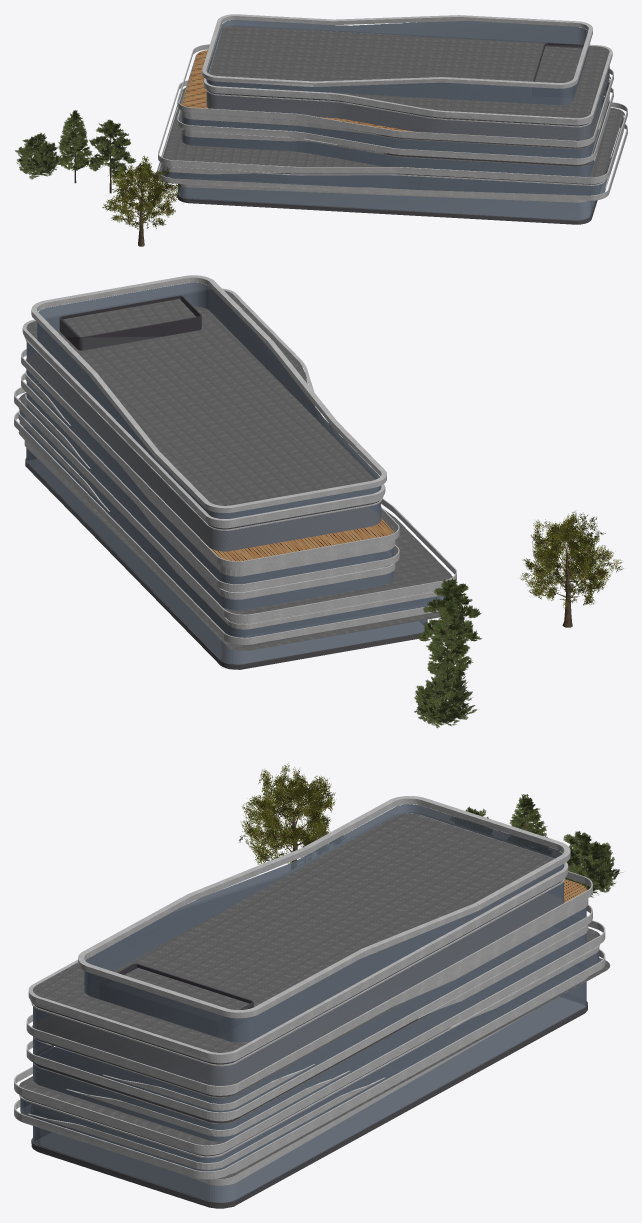
The model's file is target.glb.
3 views of the same model, one above another, from view 1: azimuth 30°, elevation 25°; view 2: azimuth 150°, elevation 25°; view 3: azimuth 270°, elevation 25° (orthographic). The views are drawn at different scales.
Parts seen in each view (by area): view 1: 玻璃, 大楼, 外墙, 大树1, 松树2, 松树1, 圆树; view 2: 大楼, 玻璃, 外墙, 大树1, 圆树, 松树1, 松树2; view 3: 玻璃, 外墙, 大楼, 大树1, 圆树, 松树1.
Boxes of the visible parts, bbox=[...] form: 玻璃: bbox=[162, 19, 623, 220]; 大楼: bbox=[156, 26, 624, 224]; 外墙: bbox=[158, 14, 627, 202]; 大树1: bbox=[102, 155, 180, 246]; 松树2: bbox=[87, 119, 136, 193]; 松树1: bbox=[58, 110, 92, 183]; 圆树: bbox=[15, 133, 61, 179]; 大楼: bbox=[18, 290, 451, 669]; 玻璃: bbox=[19, 282, 444, 664]; 外墙: bbox=[14, 275, 456, 644]; 大树1: bbox=[520, 511, 623, 627]; 圆树: bbox=[414, 665, 477, 728]; 松树1: bbox=[426, 599, 473, 678]; 松树2: bbox=[416, 578, 481, 672]; 玻璃: bbox=[20, 804, 599, 1202]; 外墙: bbox=[14, 796, 605, 1185]; 大楼: bbox=[19, 813, 610, 1208]; 大树1: bbox=[239, 763, 342, 864]; 圆树: bbox=[560, 831, 622, 897]; 松树1: bbox=[509, 794, 547, 845].
Size of what is drawn, in the model's own units: 121 by 30.49 by 89.4.
10 materials, 9 textured.
